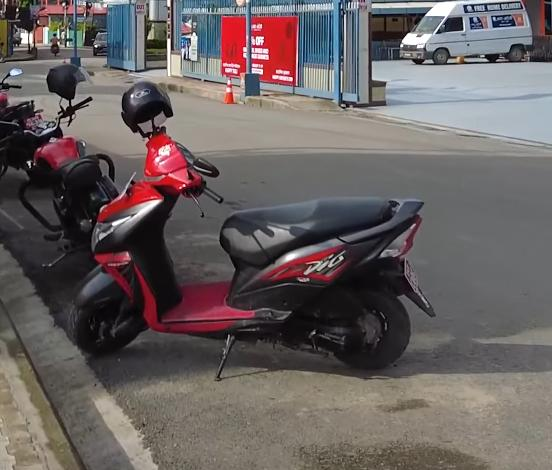bike: (0, 95, 119, 246)
micro_bus: (399, 0, 537, 65)
scooter: (63, 120, 444, 383)
